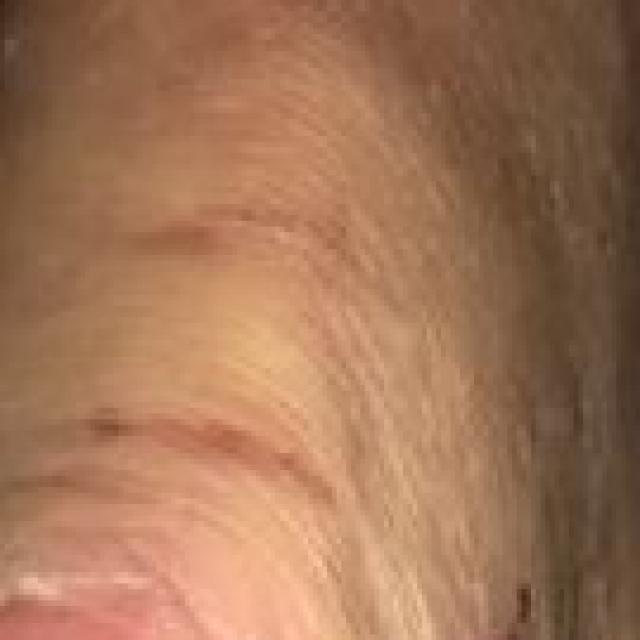wound: (0, 123, 373, 634)
